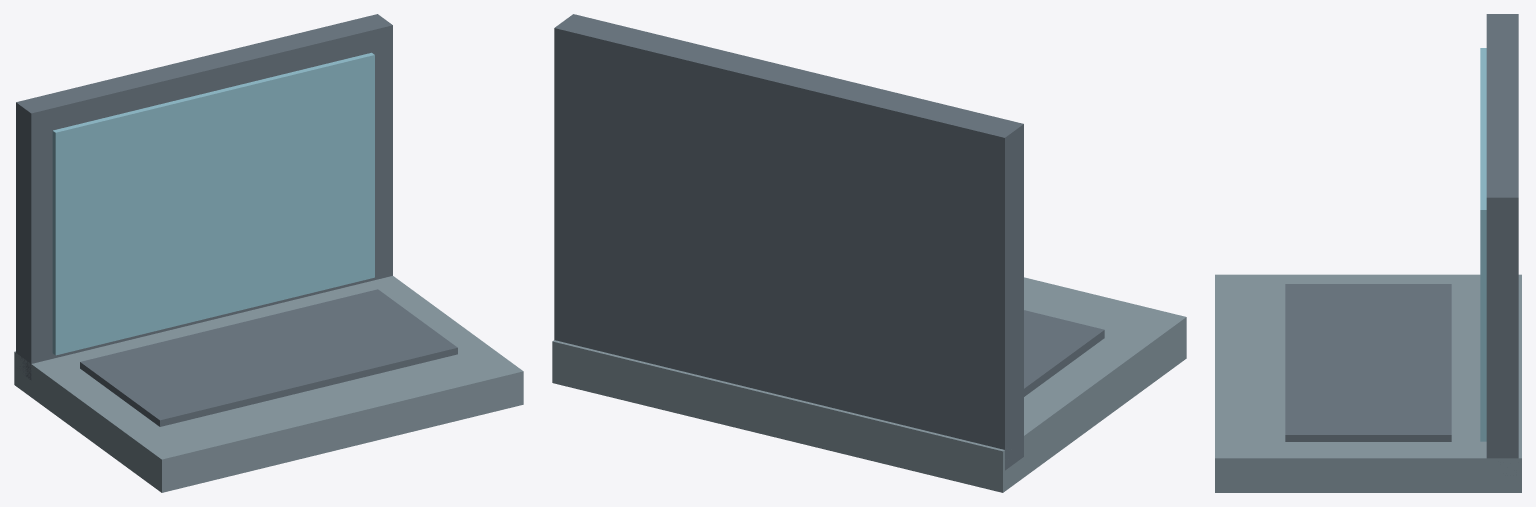
File: laptop.glb
3 views of the same model, side by side, from view 1: azimuth 30°, elevation 25°; view 2: azimuth 150°, elevation 25°; view 3: azimuth 270°, elevation 25° (orthographic). The views are drawn at different scales.
Parts seen in each view (by area): view 1: laptop_002, laptop_000, laptop_001, laptop_003; view 2: laptop_001, laptop_000, laptop_003; view 3: laptop_000, laptop_003, laptop_001, laptop_002.
Part boxes in pixels (x1=…): laptop_002: x1=52, y1=52, x2=374, y2=355; laptop_000: x1=14, y1=276, x2=523, y2=492; laptop_001: x1=16, y1=14, x2=392, y2=380; laptop_003: x1=80, y1=289, x2=457, y2=426; laptop_001: x1=554, y1=14, x2=1023, y2=470; laptop_000: x1=552, y1=277, x2=1186, y2=492; laptop_003: x1=1024, y1=310, x2=1104, y2=396; laptop_000: x1=1215, y1=274, x2=1521, y2=492; laptop_003: x1=1285, y1=284, x2=1451, y2=441; laptop_001: x1=1486, y1=14, x2=1518, y2=458; laptop_002: x1=1480, y1=48, x2=1486, y2=441.
Bounding box in the file's own units: 0.34 × 0.255 × 0.24.
